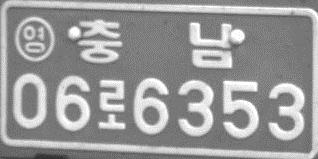0: (11, 72, 48, 130)
3: (267, 81, 305, 143), (176, 78, 213, 136)
5: (220, 79, 259, 141)
6: (132, 75, 169, 135), (54, 74, 92, 132)
로: (96, 78, 129, 131)
영: (13, 15, 56, 63)
충남_D: (77, 17, 236, 69)
